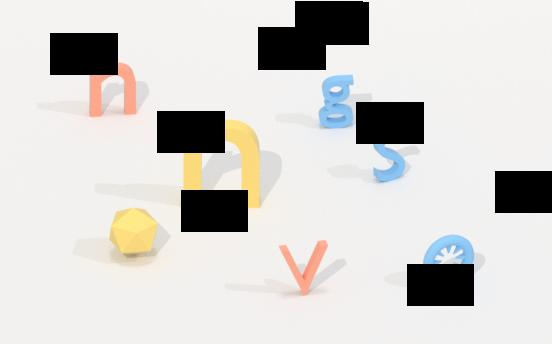dagiac: (107, 206, 162, 260)
g: (315, 66, 362, 137)
n: (178, 113, 268, 211), (83, 58, 143, 127)
s: (371, 123, 411, 187)
tron: (421, 230, 475, 291)
v: (275, 236, 334, 304)
